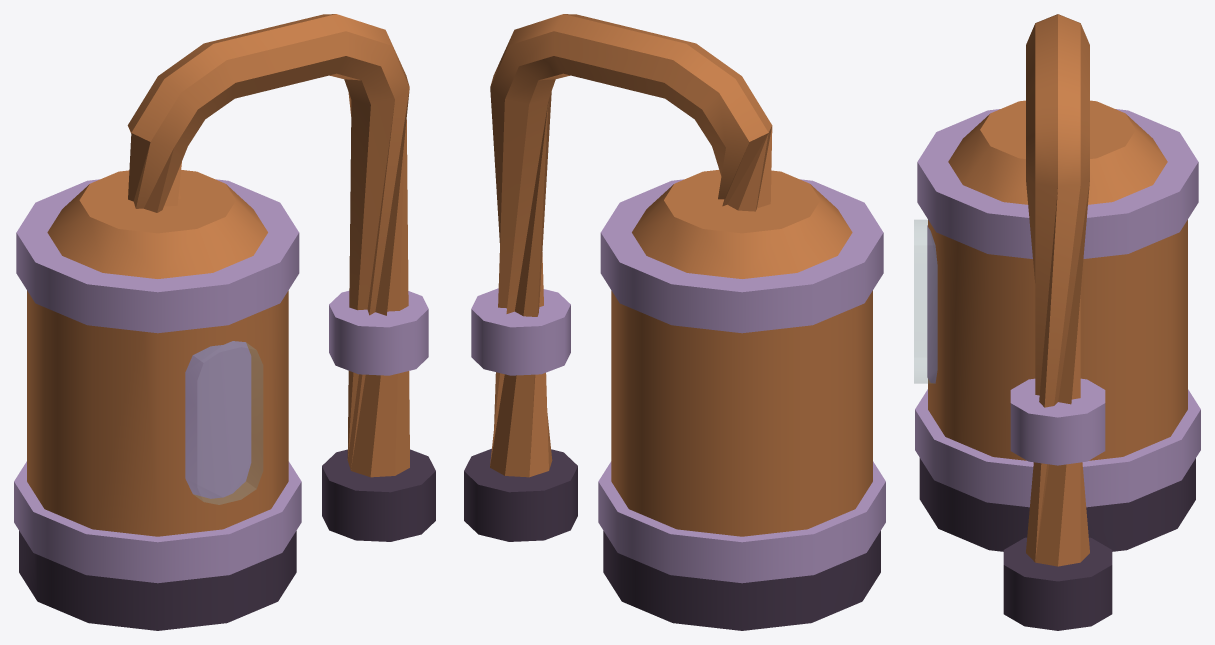
File: copper-boiler.glb
3 views of the same model, side by side, from view 1: azimuth 30°, elevation 25°; view 2: azimuth 150°, elevation 25°; view 3: azimuth 270°, elevation 25° (orthographic).
Parts seen in each view (by area): view 1: copper-boiler; view 2: copper-boiler; view 3: copper-boiler.
Part boxes in pixels (box(x1,y1,x2,y2)): copper-boiler: box(14, 14, 435, 630); copper-boiler: box(464, 14, 885, 630); copper-boiler: box(914, 14, 1200, 630).
Size of the model in its own units: 2.83 by 3.52 by 1.79.
2 materials, 1 textured.
